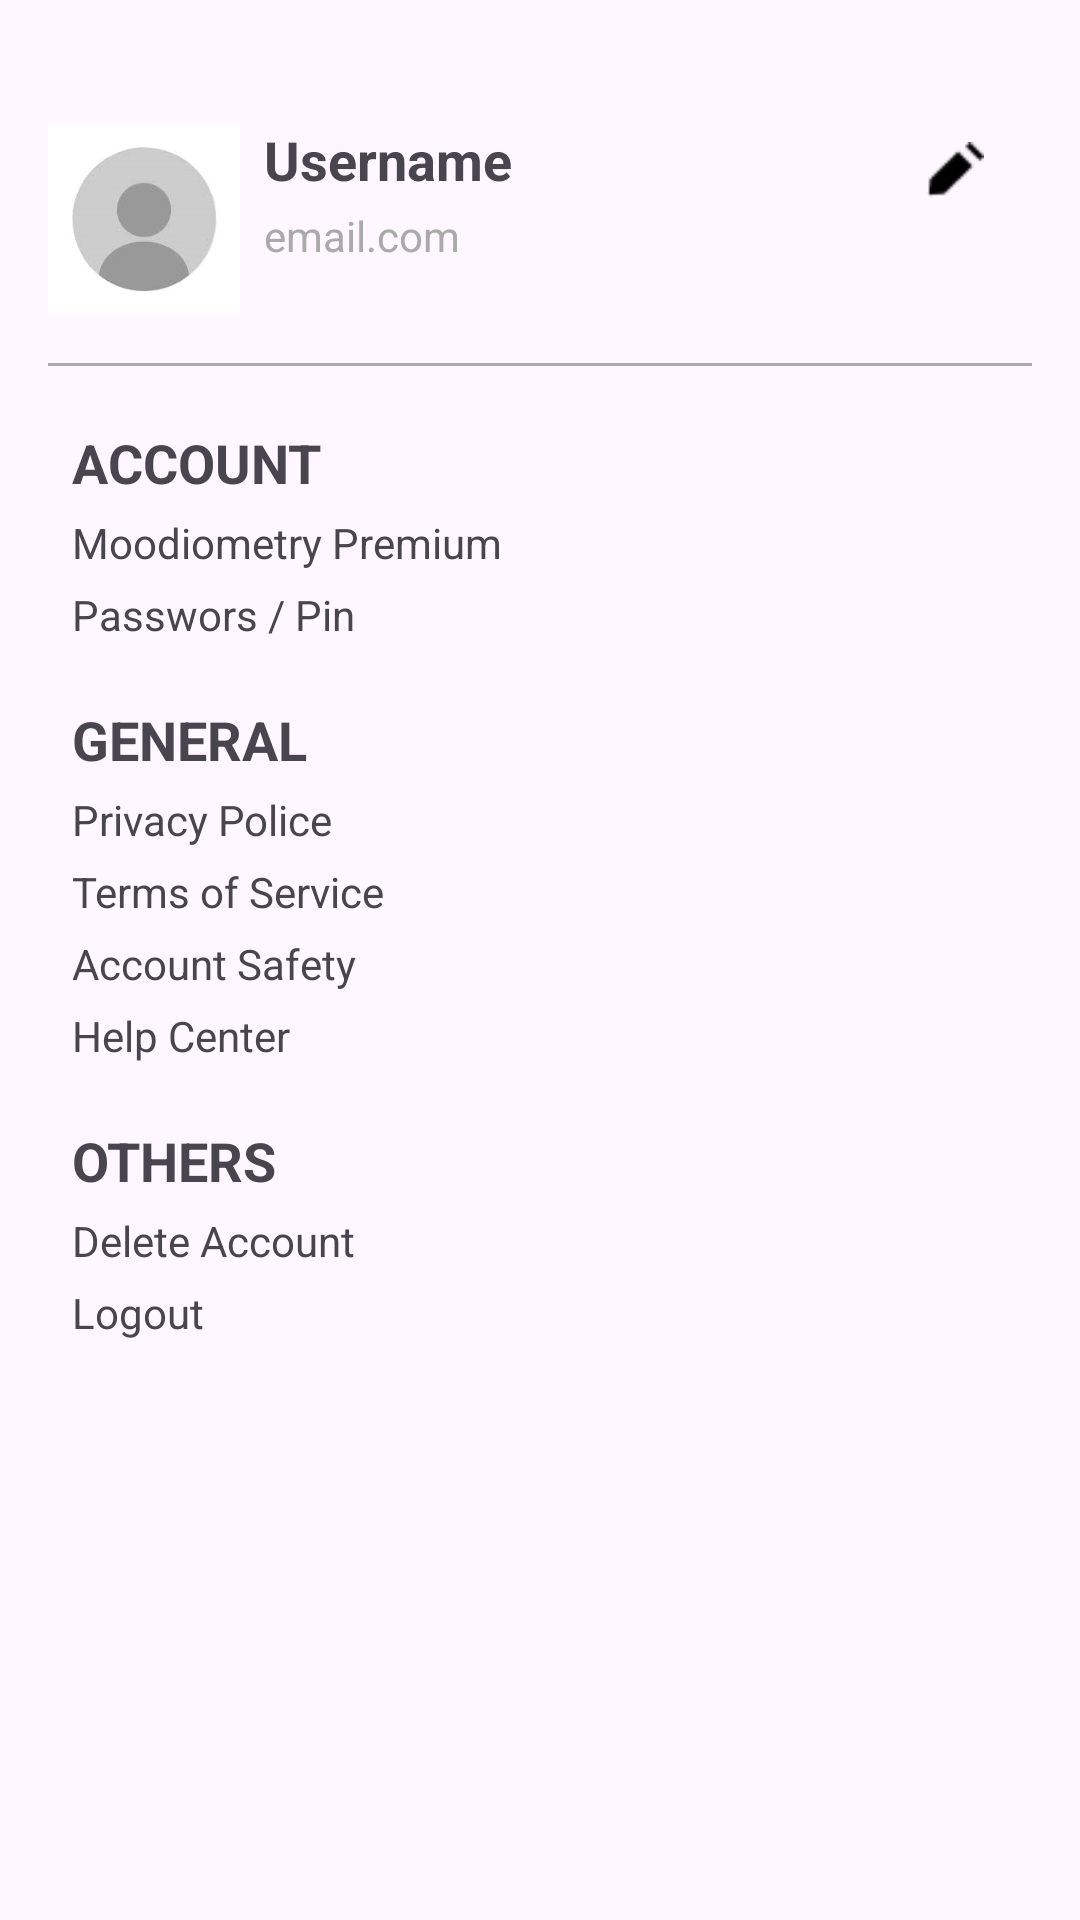

Icons on this 1080*1920 Android screen, each with its box as box=[x1, y1, x2, y2]:
Edit Profile: box=[928, 142, 984, 196]
Profile Picture: box=[72, 147, 216, 291]
